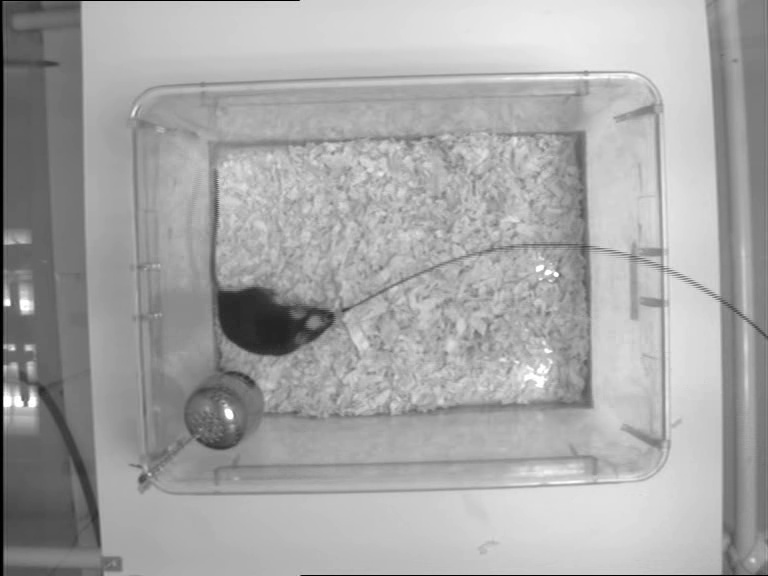mice: (208, 169, 338, 357)
